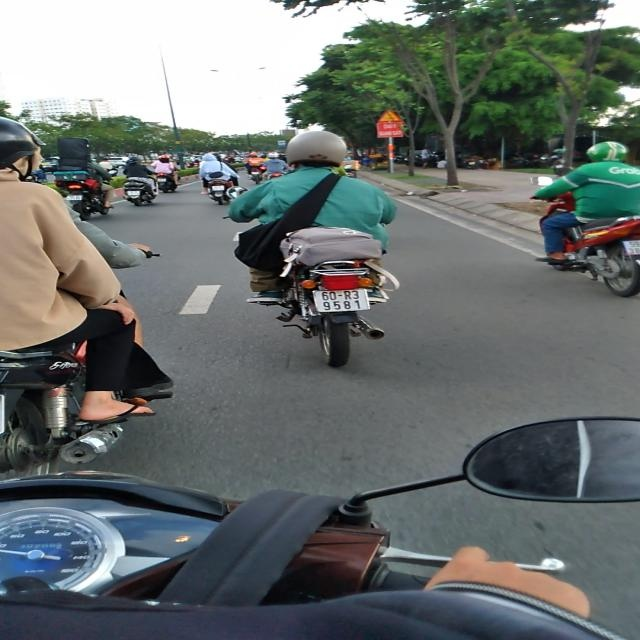bien_nguy_hiem: (376, 109, 402, 122)
